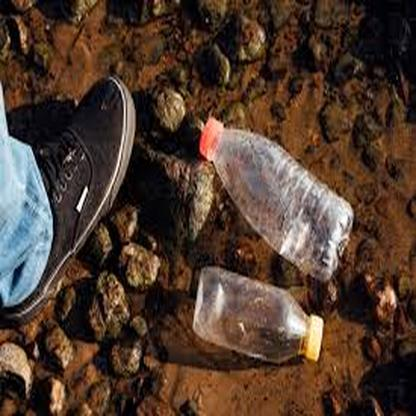plastic bottle: (198, 118, 353, 281), (191, 265, 325, 364)
